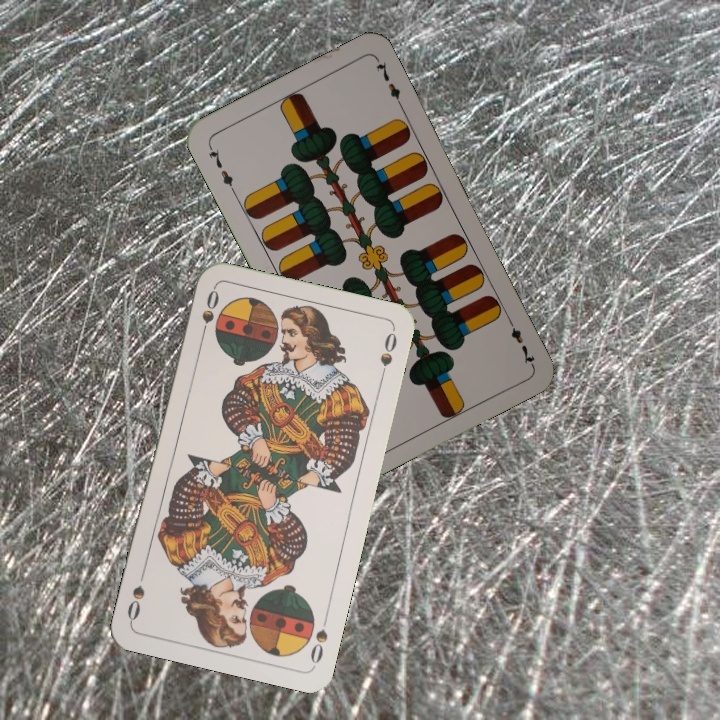E7: (503, 313, 538, 368), (204, 141, 238, 196)
SO: (196, 285, 222, 343), (306, 610, 332, 666)
